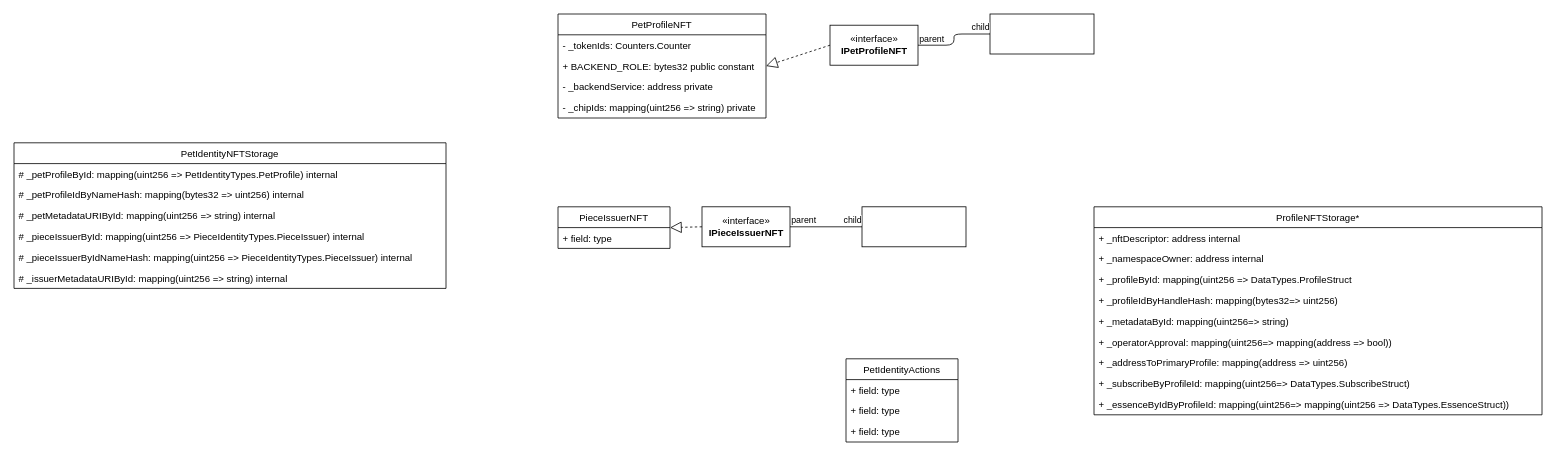
The diagram is 1556 pixels wide and 458 high, and some of its shapes have lost their labels. Here are the shapes that lost their labels. From the top down, the centre of each, then its label:
At (x=1041, y=33): "«interface» IPetProfileNFTEvents".
At (x=913, y=226): "«interface» IPieceIssuerNFTEvents".
